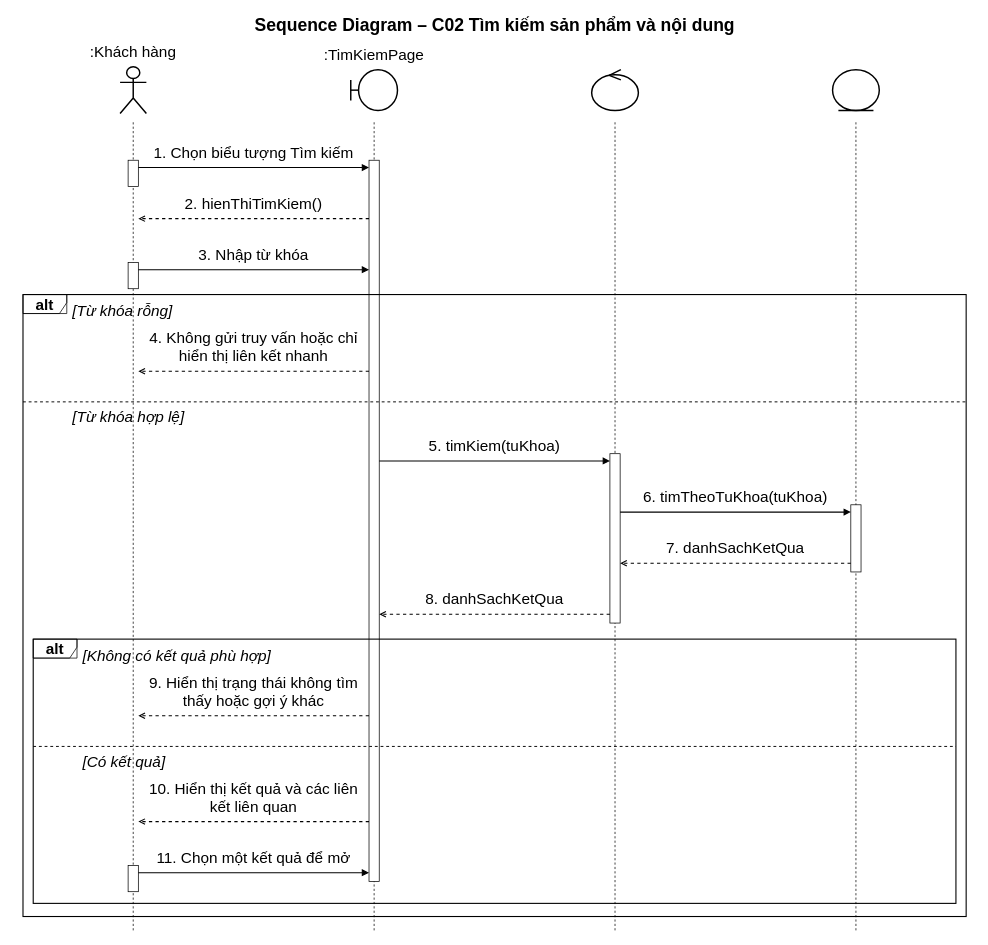
This 988x945 diagram has some shape labels left out. Each missing label, with the centre of its shape:
":SanPham" belongs at point 855,90.
":TimKiemController" belongs at point 615,90.
